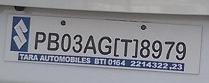0: (60, 32, 70, 52)
3: (71, 33, 82, 53)
7: (163, 39, 174, 59)
8: (138, 37, 150, 58)
9: (150, 38, 162, 58), (174, 40, 186, 60)
A: (82, 33, 96, 54)
B: (45, 31, 59, 51)
G: (96, 35, 112, 55)
P: (32, 30, 46, 49)
T: (119, 37, 131, 57)
